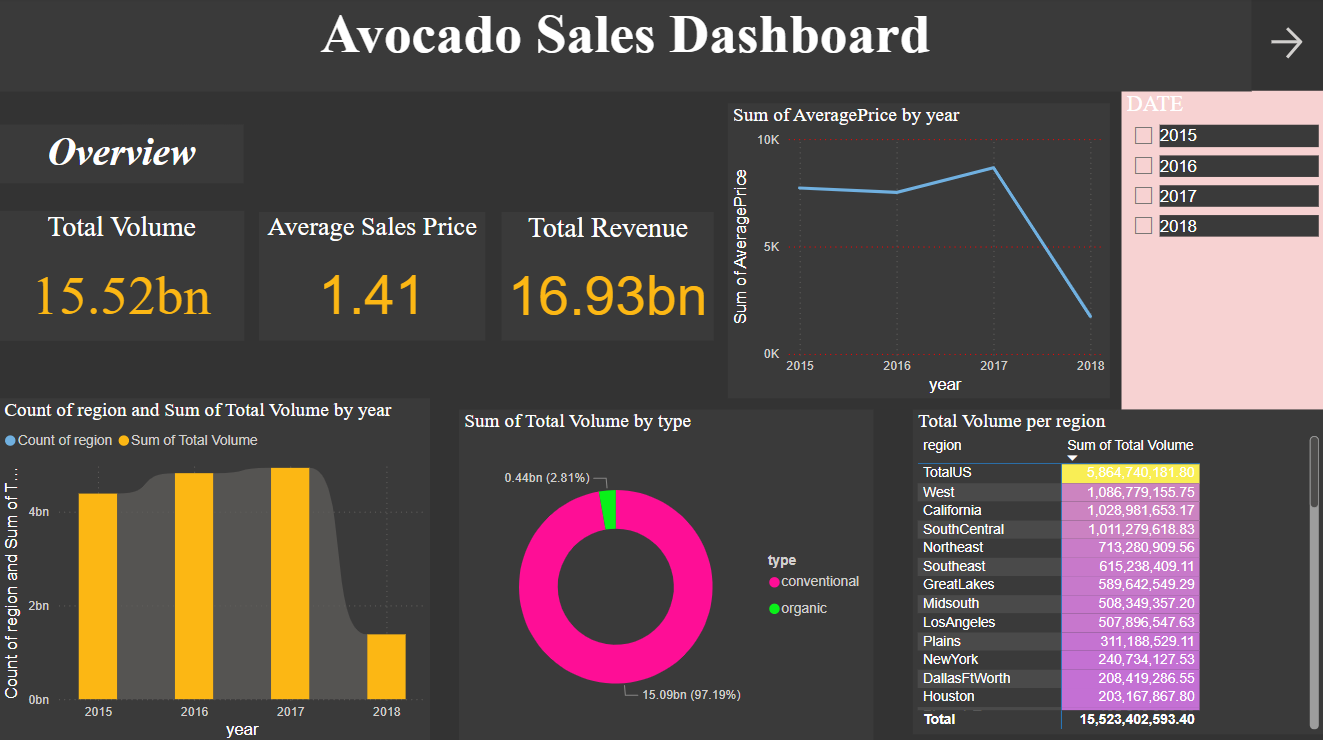

Layout of this report page (visuals, bound fields, positions):
{"tool":"powerbi","page":{"name":"Overview","canvas":[1280,720],"ordinal":0},"visuals":[{"type":"card","title":"Total Volume","fields":{"Values":["Sum(avocado.Total Volume)"]},"box":[0,206.3,236.5,125.5],"z":0},{"type":"lineChart","fields":{"Y":["Sum(avocado.AveragePrice)"],"Category":["avocado.year"]},"box":[703.4,102.5,369.2,284.7],"z":1000},{"type":"card","title":"Average Sales Price","fields":{"Values":["Avg(avocado.AveragePrice)"]},"box":[250.9,207.5,218.4,124.3],"z":2000},{"type":"donutChart","fields":{"Category":["avocado.type"],"Y":["Sum(avocado.Total Volume)"]},"box":[444,387.3,399.3,333],"z":3000},{"type":"slicer","title":"DATE","fields":{"Values":["avocado.year"]},"box":[1083.4,90.5,195.4,307.6],"z":4000},{"type":"actionButton","box":[1221.8,24.1,58.6,40.2],"z":5000},{"type":"pivotTable","title":"Total Volume per region","fields":{"Rows":["avocado.region"],"Values":["Sum(avocado.Total Volume)"]},"box":[881.9,398.1,396.9,313.7],"z":6000},{"type":"textbox","box":[0,0,1209.2,90.8],"z":7000},{"type":"textbox","box":[0,123.2,236.2,56.5],"z":8000},{"type":"ribbonChart","fields":{"Y":["CountNonNull(avocado.region)","Sum(avocado.Total Volume)"],"Category":["avocado.year"]},"box":[0,387.3,416.2,333],"z":9000},{"type":"card","title":"Total Revenue","fields":{"Values":["avocado.Total Estimated Revenue"]},"box":[485,207.5,205.1,124.3],"z":10000}]}

Visuals, with their boxes in screenshot pixels (x1, y1, x2, y2), scaled from the page's 1280x720 canvas onto the 1323x740 screenshot:
"Total Volume" card: <region>0, 212, 244, 341</region>
lineChart - Sum(avocado.AveragePrice) x avocado.year: <region>727, 105, 1109, 398</region>
"Average Sales Price" card: <region>259, 213, 485, 341</region>
donutChart - avocado.type x Sum(avocado.Total Volume): <region>459, 398, 872, 739</region>
"DATE" slicer: <region>1120, 93, 1322, 409</region>
actionButton: <region>1263, 25, 1322, 66</region>
"Total Volume per region" pivotTable: <region>912, 409, 1322, 732</region>
textbox: <region>0, 0, 1250, 93</region>
textbox: <region>0, 127, 244, 185</region>
ribbonChart - CountNonNull(avocado.region) x Sum(avocado.Total Volume): <region>0, 398, 430, 739</region>
"Total Revenue" card: <region>501, 213, 713, 341</region>
